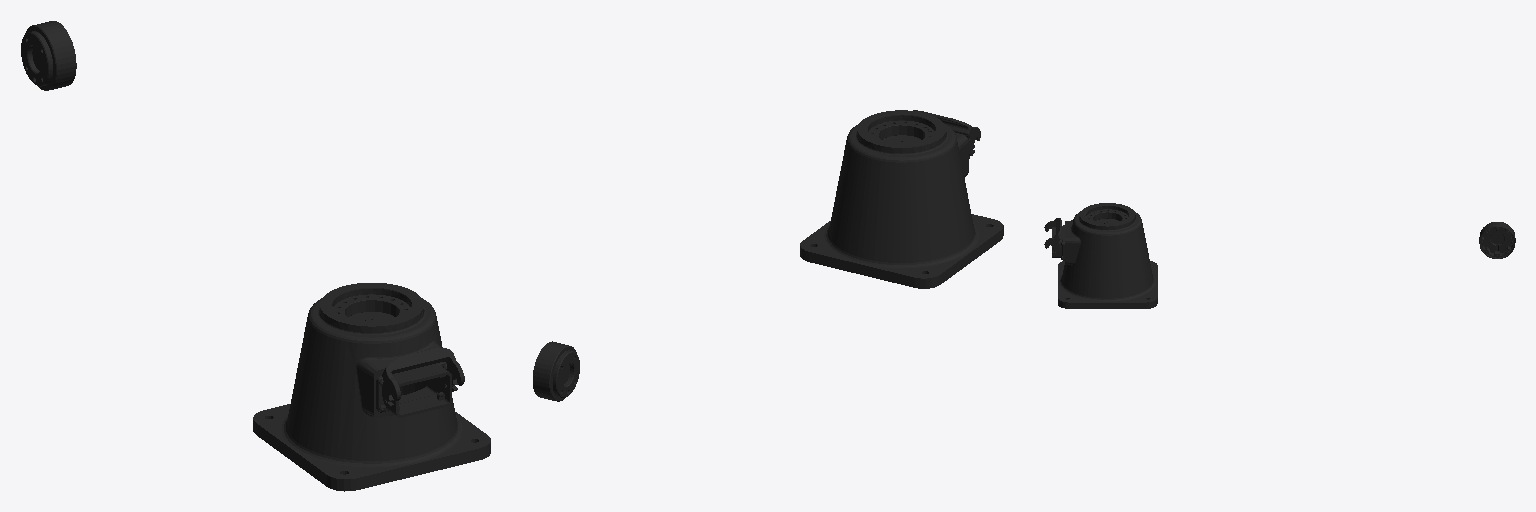
URDF robot description (es5_with_hand):
<?xml version="1.0" ?>
<!-- =================================================================================== -->
<!-- |    This document was autogenerated by xacro from [local-path]/catkin_ws/src/es5_description/urdf/es5_with_franka.urdf.xacro | -->
<!-- |    EDITING THIS FILE BY HAND IS NOT RECOMMENDED                                 | -->
<!-- =================================================================================== -->
<robot name="es5_with_hand">
    <link name="sl_base">
        <visual>
            <origin rpy="0 0 0" xyz="0 0 0" />
            <geometry>
                <mesh filename="package://es5_description/meshes/sl_base.STL" />
            </geometry>
            <material name="">
                <color rgba="0.2 0.2 0.2 1" />
            </material>
        </visual>
        <collision>
            <origin rpy="0 0 0" xyz="0 0 0" />
            <geometry>
                <mesh filename="package://es5_description/meshes/sl_base.STL" />
            </geometry>
        </collision>
        <inertial>
            <mass value="0.1" />
            <origin xyz="0 0 0" rpy="0 0 0" />
            <inertia ixx="0.03" iyy="0.03" izz="0.03" ixy="0.0" ixz="0.0" iyz="0.0" />
        </inertial>
    </link>
    <link name="sl_1">
        <inertial>
            <origin rpy="0 0 0" xyz="-0.013237 -0.00054619 -0.014982" />
            <mass value="1.7688" />
            <inertia ixx="0.0016473" ixy="-1.3712E-05" ixz="0.00016089" iyy="0.0019378" iyz="2.4347E-05" izz="0.00036119" />
        </inertial>
        <visual>
            <origin rpy="0 0 0" xyz="0 0 0" />
            <geometry>
                <mesh filename="package://es5_description/meshes/sl_1.STL" />
            </geometry>
            <material name="">
                <color rgba="0.2 0.2 0.2 1" />
            </material>
        </visual>
        <collision>
            <origin rpy="0 0 0" xyz="0 0 0" />
            <geometry>
                <mesh filename="package://es5_description/meshes/sl_1.STL" />
            </geometry>
        </collision>
    </link>
    <joint name="ESJoint1" type="revolute">
        <origin rpy="0 0 3.1417" xyz="0 0 0.236" />
        <parent link="sl_base" />
        <child link="sl_1" />
        <axis xyz="0 0 1" />
        <limit effort="50" lower="-6.28" upper="6.28" velocity="5" />
    </joint>
    <link name="sl_2">
        <inertial>
            <origin rpy="0 0 0" xyz="0.015424 -9.646E-12 0.2125" />
            <mass value="6.7544" />
            <inertia ixx="0.19271" ixy="-1.9923E-12" ixz="2.1848E-10" iyy="0.19871" iyz="0.00035188" izz="0.0061413" />
        </inertial>
        <visual>
            <origin rpy="0 0 0" xyz="0 0 0" />
            <geometry>
                <mesh filename="package://es5_description/meshes/sl_2.STL" />
            </geometry>
            <material name="">
                <color rgba="0.2 0.2 0.2 1" />
            </material>
        </visual>
        <collision>
            <origin rpy="0 0 0" xyz="0 0 0" />
            <geometry>
                <mesh filename="package://es5_description/meshes/sl_2.STL" />
            </geometry>
        </collision>
    </link>
    <joint name="ESJoint2" type="revolute">
        <origin rpy="1.57 1.2147E-16 4.8192E-33" xyz="-0.147 0 0" />
        <parent link="sl_1" />
        <child link="sl_2" />
        <axis xyz="-1 0 0" />
        <limit effort="50" lower="-6.28" upper="6.28" velocity="5" />
    </joint>
    <link name="sl_3">
        <inertial>
            <origin rpy="0 0 0" xyz="-0.0091923 1.7292E-06 0.20596" />
            <mass value="2.3481" />
            <inertia ixx="0.047889" ixy="2.6294E-06" ixz="-0.00099127" iyy="0.04871" iyz="4.612E-05" izz="0.00084808" />
        </inertial>
        <visual>
            <origin rpy="0 0 0" xyz="0 0 0" />
            <geometry>
                <mesh filename="package://es5_description/meshes/sl_3.STL" />
            </geometry>
            <material name="">
                <color rgba="0.2 0.2 0.2 1" />
            </material>
        </visual>
        <collision>
            <origin rpy="0 0 0" xyz="0 0 0" />
            <geometry>
                <mesh filename="package://es5_description/meshes/sl_3.STL" />
            </geometry>
        </collision>
    </link>
    <joint name="ESJoint3" type="revolute">
        <origin rpy="1.6918E-15 2.2204E-16 2.9582E-31" xyz="0.1375 0 0.425" />
        <parent link="sl_2" />
        <child link="sl_3" />
        <axis xyz="-1 0 0" />
        <limit effort="50" lower="-6.28" upper="6.28" velocity="5" />
    </joint>
    <link name="sl_4">
        <inertial>
            <origin rpy="0 0 0" xyz="0.0036399 0.00019977 0.014282" />
            <mass value="0.56883" />
            <inertia ixx="0.00061834" ixy="2.969E-06" ixz="3.2084E-05" iyy="0.00064057" iyz="1.6935E-06" izz="4.0818E-05" />
        </inertial>
        <visual>
            <origin rpy="0 0 0" xyz="0 0 0" />
            <geometry>
                <mesh filename="package://es5_description/meshes/sl_4.STL" />
            </geometry>
            <material name="">
                <color rgba="0.2 0.2 0.2 1" />
            </material>
        </visual>
        <collision>
            <origin rpy="0 0 0" xyz="0 0 0" />
            <geometry>
                <mesh filename="package://es5_description/meshes/sl_4.STL" />
            </geometry>
        </collision>
    </link>
    <joint name="ESJoint4" type="revolute">
        <origin rpy="1.57 -5.388E-16 1.9374E-31" xyz="-0.101 0 0.395" />
        <parent link="sl_3" />
        <child link="sl_4" />
        <axis xyz="-1 0 0" />
        <limit effort="50" lower="-6.28" upper="6.28" velocity="5" />
    </joint>
    <link name="sl_5">
        <inertial>
            <origin rpy="0 0 0" xyz="-0.014282 -0.00019977 -0.0036399" />
            <mass value="0.56883" />
            <inertia ixx="4.0818E-05" ixy="1.6935E-06" ixz="3.2084E-05" iyy="0.00064057" iyz="2.969E-06" izz="0.00061834" />
        </inertial>
        <visual>
            <origin rpy="0 0 0" xyz="0 0 0" />
            <geometry>
                <mesh filename="package://es5_description/meshes/sl_5.STL" />
            </geometry>
            <material name="">
                <color rgba="0.2 0.2 0.2 1" />
            </material>
        </visual>
        <collision>
            <origin rpy="0 0 0" xyz="0 0 0" />
            <geometry>
                <mesh filename="package://es5_description/meshes/sl_5.STL" />
            </geometry>
        </collision>
    </link>
    <joint name="ESJoint5" type="revolute">
        <origin rpy="0 0 3.1417" xyz="0 0 0.101" />
        <parent link="sl_4" />
        <child link="sl_5" />
        <axis xyz="0 0 1" />
        <limit effort="50" lower="-6.28" upper="6.28" velocity="5" />
    </joint>
    <link name="sl_6">
        <inertial>
            <origin rpy="0 0 0" xyz="-0.064015 7.6673E-07 -0.00019082" />
            <mass value="0.17537" />
            <inertia ixx="1.3436E-06" ixy="1.5557E-11" ixz="-3.8717E-09" iyy="9.8324E-07" iyz="1.9341E-13" izz="9.8319E-07" />
        </inertial>
        <visual>
            <origin rpy="0 0 0" xyz="0 0 0" />
            <geometry>
                <mesh filename="package://es5_description/meshes/sl_6.STL" />
            </geometry>
            <material name="">
                <color rgba="0.2 0.2 0.2 1" />
            </material>
        </visual>
        <collision>
            <origin rpy="0 0 0" xyz="0 0 0" />
            <geometry>
                <mesh filename="package://es5_description/meshes/sl_6.STL" />
            </geometry>
        </collision>
    </link>
    <joint name="ESJoint6" type="revolute">
        <origin rpy="0 0 0" xyz="0 0 0" />
        <parent link="sl_5" />
        <child link="sl_6" />
        <axis xyz="1 0 0" />
        <limit effort="50" lower="-6.28" upper="6.28" velocity="5" />
    </joint>
    <joint name="_hand_joint" type="fixed">
        <parent link="sl_6" />
        <child link="_hand" />
        <origin rpy="0 -1.5707963267948966 0" xyz="-0.075 0 0" />
    </joint>
    <link name="_hand">
        <visual>
            <origin rpy="0 0 0" xyz="0 0 0" />
            <geometry>
                <mesh filename="package://franka_description/meshes/hand.STL" />
            </geometry>
            <material name="">
                <color rgba="1 1 1 1" />
            </material>
        </visual>
        <collision>
            <origin rpy="0 0 0" xyz="0 0 0" />
            <geometry>
                <mesh filename="package://franka_description/meshes/hand_collision.STL" />
            </geometry>
        </collision>
        <inertial>
            <mass value="0.1" />
            <origin xyz="0 0 0" rpy="0 0 0" />
            <inertia ixx="0.03" iyy="0.03" izz="0.03" ixy="0.0" ixz="0.0" iyz="0.0" />
        </inertial>
    </link>
    <link name="_leftfinger">
        <visual>
            <origin rpy="0 0 0" xyz="0 0 0" />
            <geometry>
                <mesh filename="package://franka_description/meshes/leftfinger.STL" />
            </geometry>
            <material name="">
                <color rgba="1 1 1 1" />
            </material>
        </visual>
        <collision>
            <geometry>
                <mesh filename="package://franka_description/meshes/leftfinger_collision.STL" />
            </geometry>
        </collision>
        <inertial>
            <mass value="0.1" />
            <origin xyz="0 0 0" rpy="0 0 0" />
            <inertia ixx="0.03" iyy="0.03" izz="0.03" ixy="0.0" ixz="0.0" iyz="0.0" />
        </inertial>
    </link>
    <link name="_rightfinger">
        <visual>
            <origin rpy="0 0 0" xyz="0 0 0" />
            <geometry>
                <mesh filename="package://franka_description/meshes/rightfinger.STL" />
            </geometry>
            <material name="">
                <color rgba="1 1 1 1" />
            </material>
        </visual>
        <collision>
            <geometry>
                <mesh filename="package://franka_description/meshes/rightfinger_collision.STL" />
            </geometry>
        </collision>
        <inertial>
            <mass value="0.1" />
            <origin xyz="0 0 0" rpy="0 0 0" />
            <inertia ixx="0.03" iyy="0.03" izz="0.03" ixy="0.0" ixz="0.0" iyz="0.0" />
        </inertial>
    </link>
    <joint name="_finger_joint1" type="prismatic">
        <parent link="_hand" />
        <child link="_leftfinger" />
        <origin rpy="0 0 0" xyz="0 0 0.0584" />
        <axis xyz="0 1 0" />
        <limit effort="20" lower="-0.001" upper="0.04" velocity="0.3" />
    </joint>
    <joint name="_finger_joint2" type="prismatic">
        <parent link="_hand" />
        <child link="_rightfinger" />
        <origin rpy="0 0 0" xyz="0 0 0.0584" />
        <axis xyz="0 -1 0" />
        <limit effort="20" lower="-0.001" upper="0.04" velocity="0.3" />
    </joint>
    <transmission name="trans_ESJoint1">
        <type>transmission_interface/SimpleTransmission</type>
        <joint name="ESJoint1">
            <hardwareInterface>hardware_interface/PositionJointInterface</hardwareInterface>
        </joint>
        <actuator name="ESJoint1_motor">
            <hardwareInterface>hardware_interface/PositionJointInterface</hardwareInterface>
            <mechanicalReduction>1</mechanicalReduction>
        </actuator>
    </transmission>
    <transmission name="trans_ESJoint2">
        <type>transmission_interface/SimpleTransmission</type>
        <joint name="ESJoint2">
            <hardwareInterface>hardware_interface/PositionJointInterface</hardwareInterface>
        </joint>
        <actuator name="ESJoint2_motor">
            <hardwareInterface>hardware_interface/PositionJointInterface</hardwareInterface>
            <mechanicalReduction>1</mechanicalReduction>
        </actuator>
    </transmission>
    <transmission name="trans_ESJoint3">
        <type>transmission_interface/SimpleTransmission</type>
        <joint name="ESJoint3">
            <hardwareInterface>hardware_interface/PositionJointInterface</hardwareInterface>
        </joint>
        <actuator name="ESJoint3_motor">
            <hardwareInterface>hardware_interface/PositionJointInterface</hardwareInterface>
            <mechanicalReduction>1</mechanicalReduction>
        </actuator>
    </transmission>
    <transmission name="trans_ESJoint4">
        <type>transmission_interface/SimpleTransmission</type>
        <joint name="ESJoint4">
            <hardwareInterface>hardware_interface/PositionJointInterface</hardwareInterface>
        </joint>
        <actuator name="ESJoint4_motor">
            <hardwareInterface>hardware_interface/PositionJointInterface</hardwareInterface>
            <mechanicalReduction>1</mechanicalReduction>
        </actuator>
    </transmission>
    <transmission name="trans_ESJoint5">
        <type>transmission_interface/SimpleTransmission</type>
        <joint name="ESJoint5">
            <hardwareInterface>hardware_interface/PositionJointInterface</hardwareInterface>
        </joint>
        <actuator name="ESJoint5_motor">
            <hardwareInterface>hardware_interface/PositionJointInterface</hardwareInterface>
            <mechanicalReduction>1</mechanicalReduction>
        </actuator>
    </transmission>
    <transmission name="trans_ESJoint6">
        <type>transmission_interface/SimpleTransmission</type>
        <joint name="ESJoint6">
            <hardwareInterface>hardware_interface/PositionJointInterface</hardwareInterface>
        </joint>
        <actuator name="ESJoint6_motor">
            <hardwareInterface>hardware_interface/PositionJointInterface</hardwareInterface>
            <mechanicalReduction>1</mechanicalReduction>
        </actuator>
    </transmission>
    <transmission name="trans__finger_joint1">
        <type>transmission_interface/SimpleTransmission</type>
        <joint name="_finger_joint1">
            <hardwareInterface>hardware_interface/PositionJointInterface</hardwareInterface>
        </joint>
        <actuator name="_finger_joint1_motor">
            <hardwareInterface>hardware_interface/PositionJointInterface</hardwareInterface>
            <mechanicalReduction>1</mechanicalReduction>
        </actuator>
    </transmission>
    <transmission name="trans__finger_joint2">
        <type>transmission_interface/SimpleTransmission</type>
        <joint name="_finger_joint2">
            <hardwareInterface>hardware_interface/PositionJointInterface</hardwareInterface>
        </joint>
        <actuator name="_finger_joint2_motor">
            <hardwareInterface>hardware_interface/PositionJointInterface</hardwareInterface>
            <mechanicalReduction>1</mechanicalReduction>
        </actuator>
    </transmission>
    <gazebo>
        <plugin name="gazebo_ros_control">
            <robotNamespace>/</robotNamespace>
        </plugin>
    </gazebo>
</robot>

--- Render facts (derived) ---
3 views of the same robot in one strip: view 1: azimuth 30°, elevation 25°; view 2: azimuth 150°, elevation 25°; view 3: azimuth 270°, elevation 25° (orthographic).
Model es5_with_hand with 10 links and 9 joints (6 revolute, 2 prismatic, 1 fixed), rooted at sl_base, posed every joint at zero.
Links seen in each view (by area): view 1: sl_base, sl_6; view 2: sl_base, sl_6; view 3: sl_base, sl_6.
Boxes of the visible links, box(x1,y1,x2,y2) form: sl_base: box(253, 283, 490, 491); sl_6: box(21, 21, 76, 90); sl_base: box(800, 110, 1003, 288); sl_6: box(533, 341, 579, 401); sl_base: box(1044, 203, 1157, 308); sl_6: box(1479, 222, 1515, 258).
Bounding box of the posed robot: 0.21 × 0.9911 × 0.1735 m (x, y, z).
2 mesh visuals loaded from 10 distinct referenced files (2 binary STL); not drawn: 8 (reference not matched to a file when rendering).